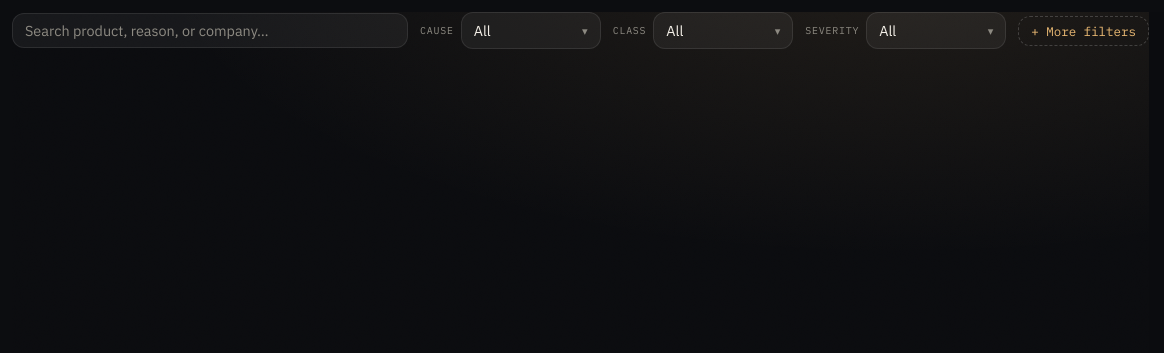
Test: RecallFilters › annotates options with facet counts and sorts zero-result ones last, disabled
What coordinates should you click on to do the following:
click the dropdown named "Cause"
I would click on:
 (531, 30)
Its box is [461,12,601,49].
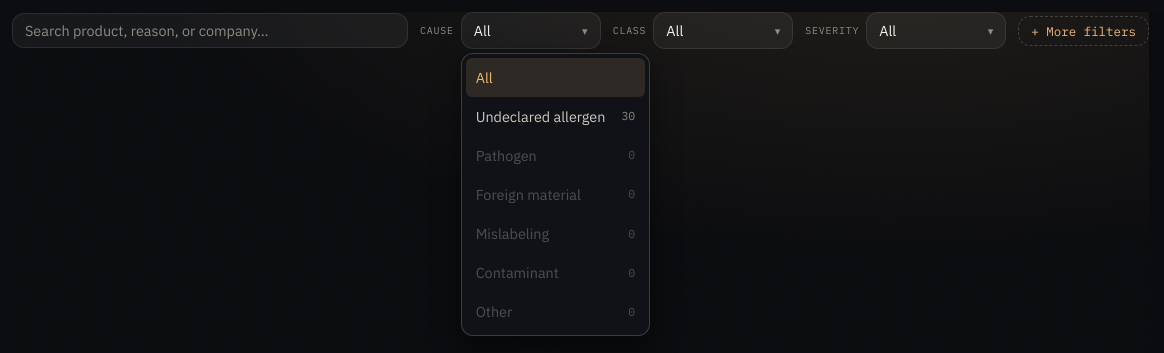
Now the option "All" is shown, box [466,58,645,97]
Now the option "Undeclared allergen 30" is shown, box [476,107,635,126]
